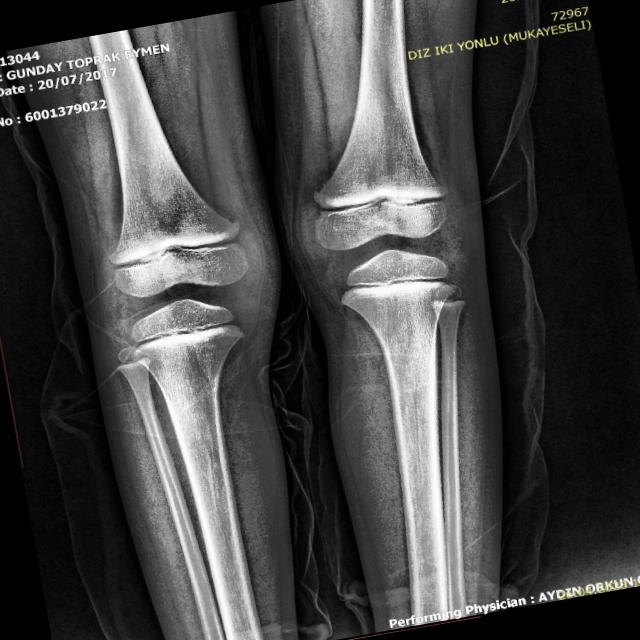Not_Fracture: (8, 0, 560, 640)
